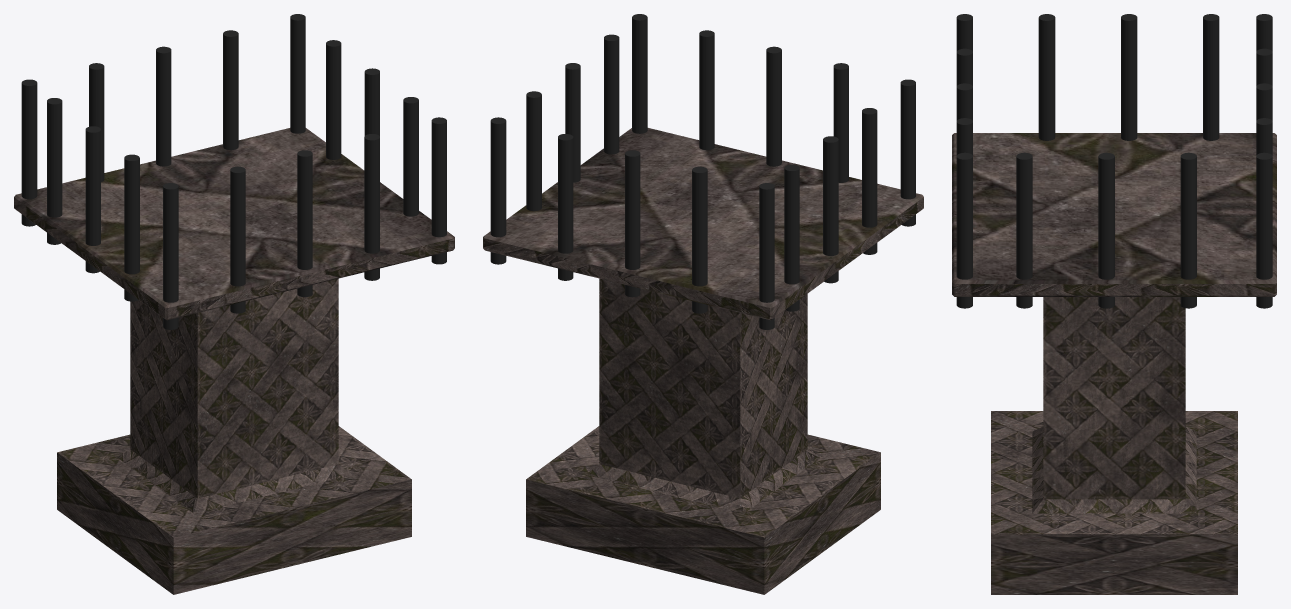
File: Pedestal.fbx
3 views of the same model, side by side, from view 1: azimuth 30°, elevation 25°; view 2: azimuth 150°, elevation 25°; view 3: azimuth 270°, elevation 25° (orthographic). The views are drawn at different scales.
Visible parts, largest first — view 1: Pedestal, Cylinder, Cylinder.012, Cylinder.009, Cylinder.011, Cylinder.008, Cylinder.010, Cylinder.013, Cylinder.014, Cylinder.015, Cylinder.002, Cylinder.004 (+5 smaller); view 2: Pedestal, Cylinder.004, Cylinder, Cylinder.001, Cylinder.002, Cylinder.003, Cylinder.014, Cylinder.012, Cylinder.015, Cylinder.013, Cylinder.007, Cylinder.010 (+5 smaller); view 3: Pedestal, Cylinder.005, Cylinder.009, Cylinder.006, Cylinder.004, Cylinder.007, Cylinder.013, Cylinder.015, Cylinder.014, Cylinder.001, Cylinder.010, Cylinder.011 (+5 smaller).
Boxes of the visible parts, bbox=[...] form: Pedestal: bbox=[14, 128, 454, 594]; Cylinder: bbox=[21, 79, 37, 226]; Cylinder.012: bbox=[163, 183, 178, 329]; Cylinder.009: bbox=[431, 117, 446, 264]; Cylinder.011: bbox=[230, 166, 245, 313]; Cylinder.008: bbox=[364, 134, 379, 280]; Cylinder.010: bbox=[297, 150, 312, 297]; Cylinder.013: bbox=[124, 154, 139, 301]; Cylinder.014: bbox=[85, 126, 100, 273]; Cylinder.015: bbox=[47, 98, 62, 244]; Cylinder.002: bbox=[156, 46, 171, 166]; Cylinder.004: bbox=[290, 14, 305, 133]; Pedestal: bbox=[483, 128, 923, 594]; Cylinder.004: bbox=[490, 117, 506, 264]; Cylinder: bbox=[759, 183, 774, 329]; Cylinder.001: bbox=[692, 166, 707, 313]; Cylinder.002: bbox=[625, 150, 640, 297]; Cylinder.003: bbox=[558, 134, 573, 280]; Cylinder.014: bbox=[823, 136, 838, 283]; Cylinder.012: bbox=[900, 79, 915, 226]; Cylinder.015: bbox=[784, 164, 799, 311]; Cylinder.013: bbox=[862, 108, 877, 254]; Cylinder.007: bbox=[604, 34, 619, 154]; Cylinder.010: bbox=[766, 46, 781, 166]; Pedestal: bbox=[952, 133, 1276, 594]; Cylinder.005: bbox=[1180, 152, 1196, 308]; Cylinder.009: bbox=[956, 152, 972, 308]; Cylinder.006: bbox=[1098, 152, 1114, 308]; Cylinder.004: bbox=[1256, 152, 1272, 308]; Cylinder.007: bbox=[1016, 152, 1032, 308]; Cylinder.013: bbox=[1038, 14, 1055, 140]; Cylinder.015: bbox=[1203, 14, 1219, 140]; Cylinder.014: bbox=[1121, 14, 1137, 140]; Cylinder.001: bbox=[1256, 48, 1272, 85]; Cylinder.010: bbox=[956, 83, 972, 120]; Cylinder.011: bbox=[956, 48, 972, 85].
Size of the model in its own units: 4.32 by 6 by 3.95.
